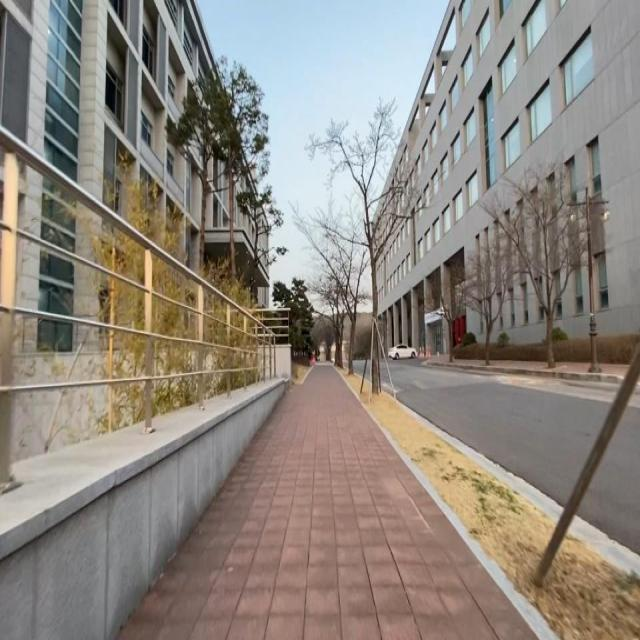sidewalk: (113, 362, 542, 640), (429, 354, 629, 377)
